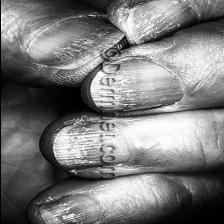Toxin: (26, 15, 112, 67), (126, 0, 202, 45)
